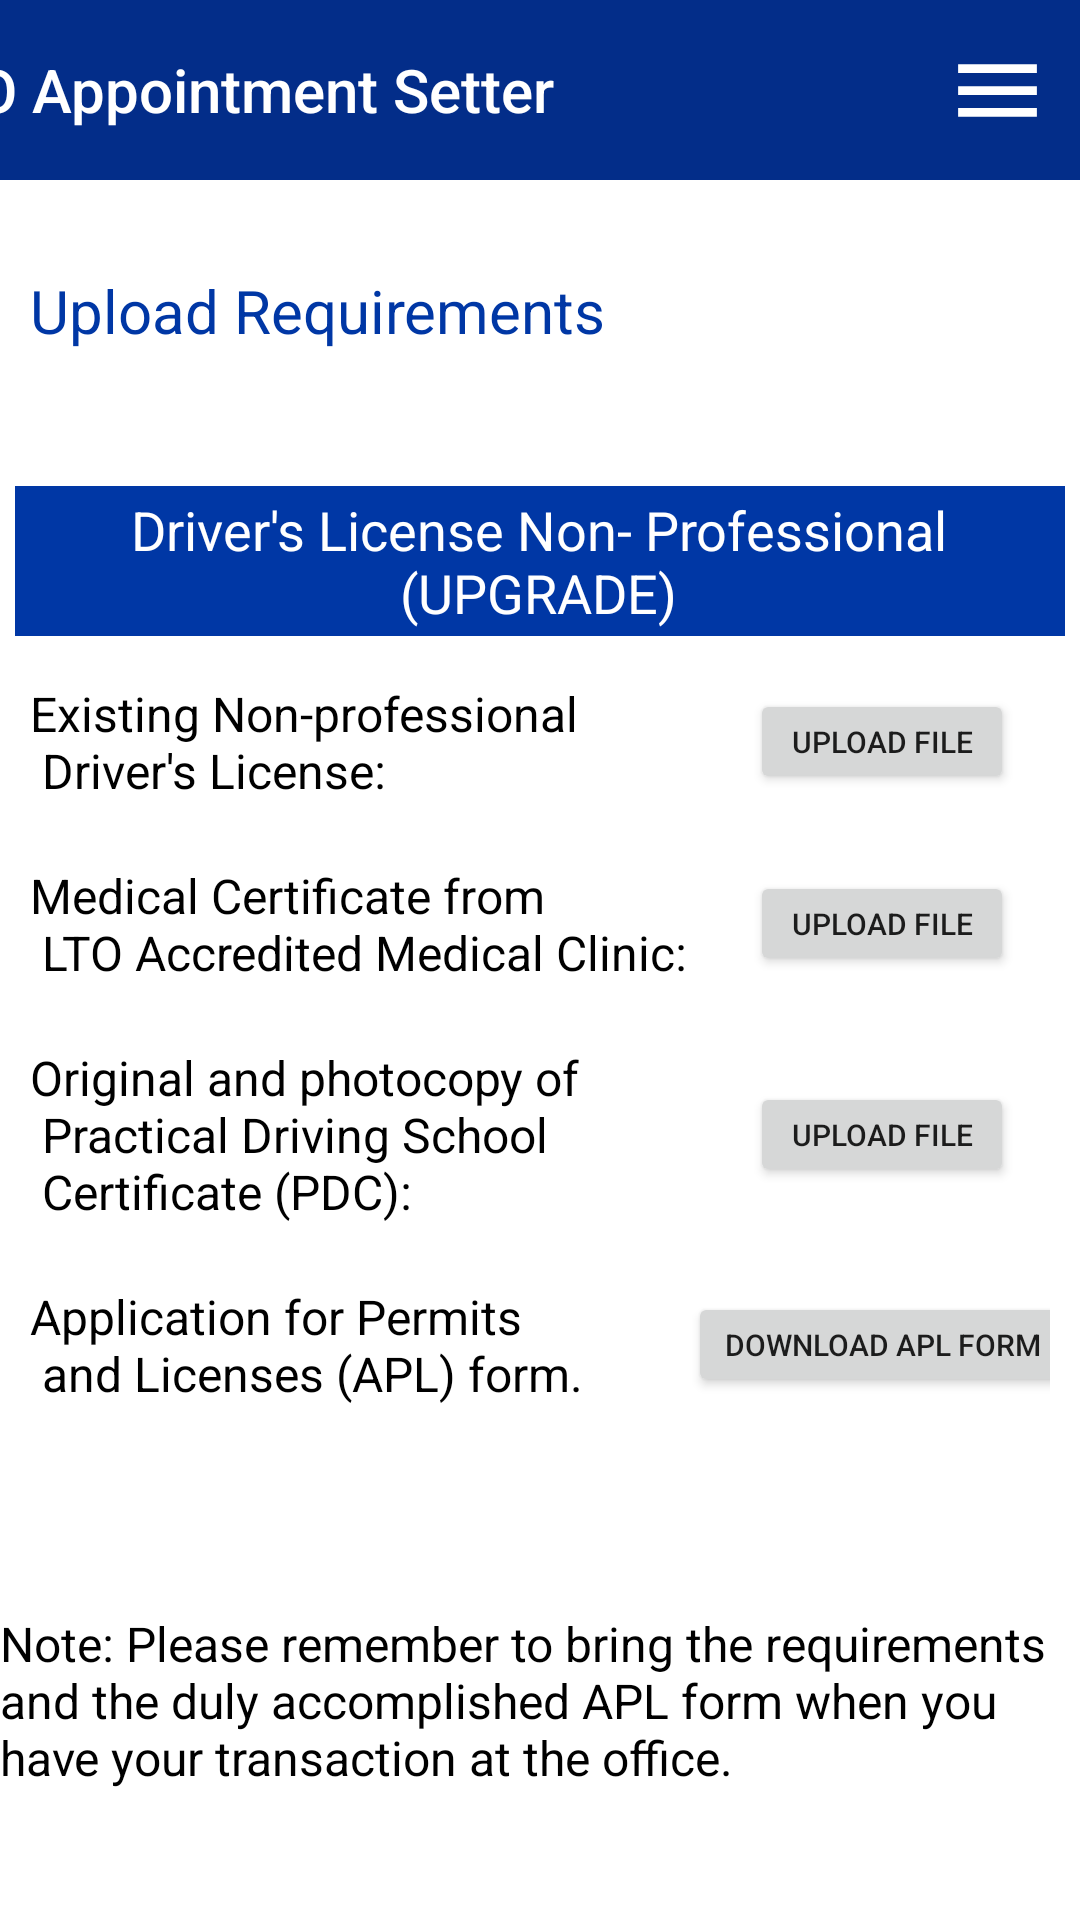

Icons on this 1080w x 1920h Android screen, each with the point to tap as (x=x, y=y):
menu: (x=997, y=90)
